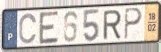5: (82, 8, 101, 44)
6: (62, 10, 78, 44)
C: (18, 13, 38, 46)
E: (38, 10, 60, 46)
P: (124, 7, 144, 41)
R: (102, 8, 122, 41)
